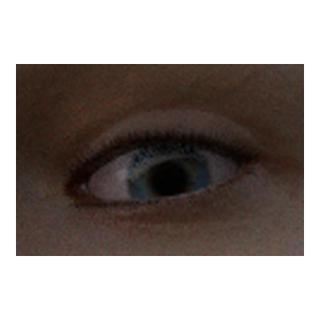pupil: (154, 164, 185, 196)
